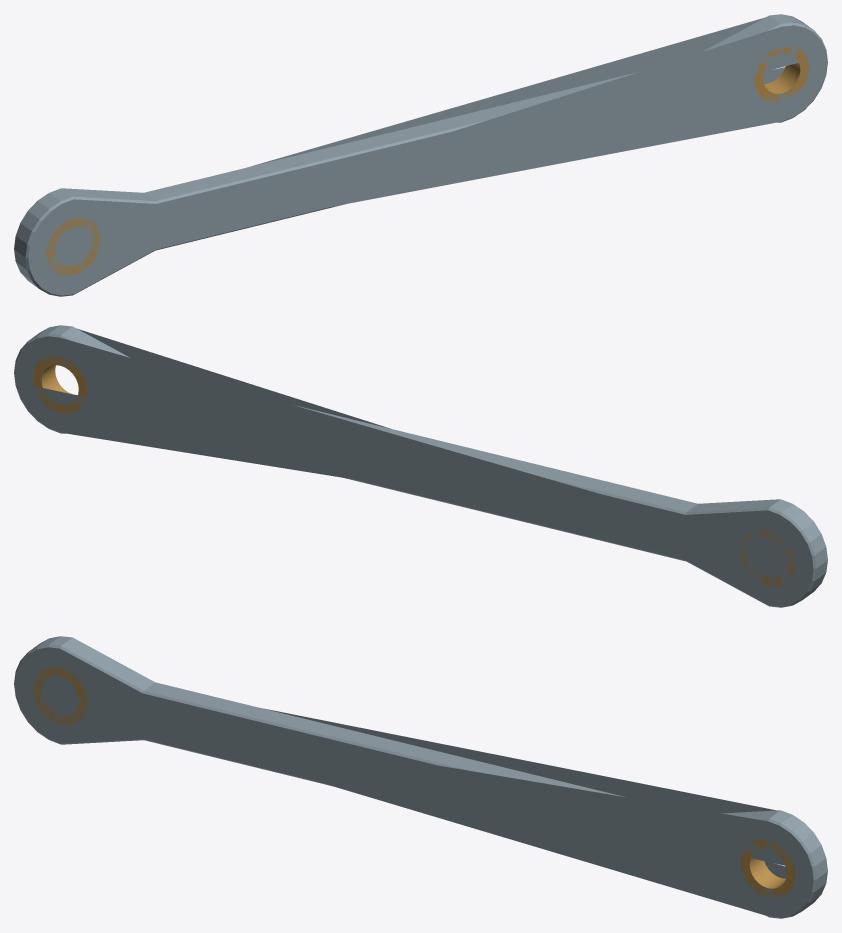
The model's file is VLAB_connecting_rod.fbx.
The picture shows the model from 3 angles, top to bottom: view 1: azimuth 30°, elevation 25°; view 2: azimuth 150°, elevation 25°; view 3: azimuth 330°, elevation 25°; orthographic projection.
Parts seen in each view (by area): view 1: VLAB_connecting_rod_Rod_VIS, VLAB_connecting_rod_PinSockets_VIS; view 2: VLAB_connecting_rod_Rod_VIS, VLAB_connecting_rod_PinSockets_VIS; view 3: VLAB_connecting_rod_Rod_VIS, VLAB_connecting_rod_PinSockets_VIS.
Part boxes in pixels (left/top/right/bottom): VLAB_connecting_rod_Rod_VIS: left=14, top=14, right=827, bottom=296; VLAB_connecting_rod_PinSockets_VIS: left=46, top=45, right=808, bottom=275; VLAB_connecting_rod_Rod_VIS: left=14, top=325, right=827, bottom=607; VLAB_connecting_rod_PinSockets_VIS: left=33, top=356, right=794, bottom=586; VLAB_connecting_rod_Rod_VIS: left=14, top=636, right=827, bottom=918; VLAB_connecting_rod_PinSockets_VIS: left=33, top=667, right=795, bottom=897.
Size of the model in its own units: 0.136 by 0.016 by 0.004.
